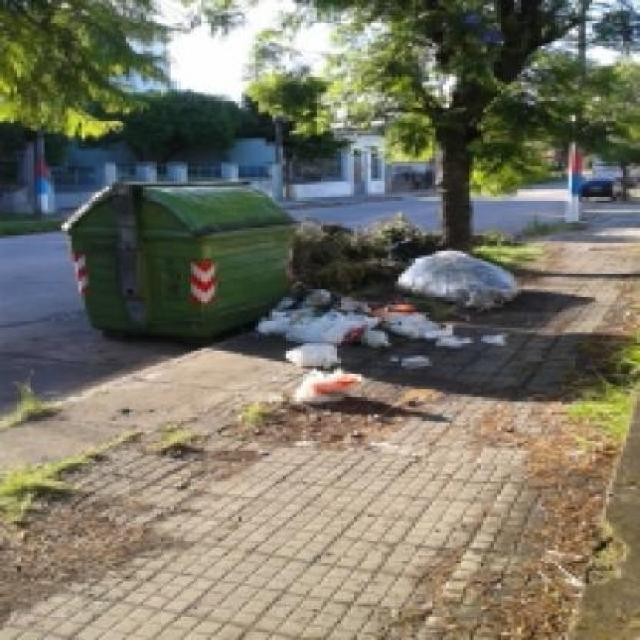garbage: (252, 281, 473, 374), (396, 246, 515, 308)
